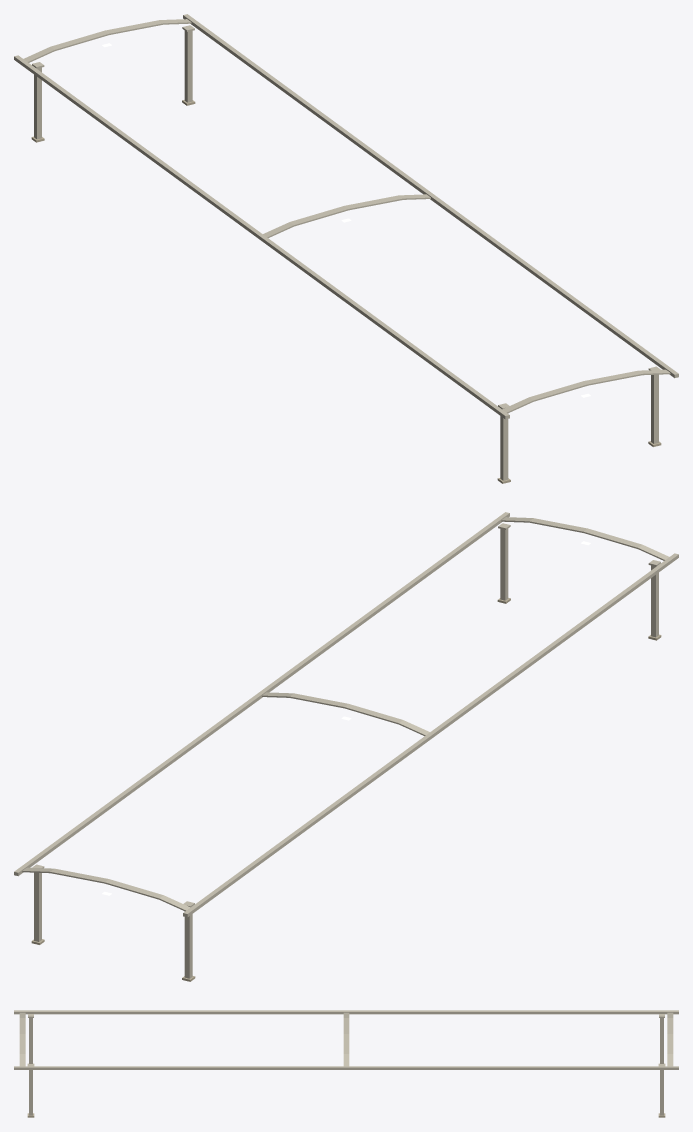
The model's file is COURT_D09_PA_02__shell.glb.
The picture shows the model from 3 angles, top to bottom: view 1: azimuth 30°, elevation 25°; view 2: azimuth 150°, elevation 25°; view 3: azimuth 270°, elevation 25°; orthographic projection. The views are drawn at different scales.
Parts seen in each view (by area): view 1: COURT_D09_PA_02__shell__ivory_enamel; view 2: COURT_D09_PA_02__shell__ivory_enamel; view 3: COURT_D09_PA_02__shell__ivory_enamel.
Boxes of the visible parts, <box> form: COURT_D09_PA_02__shell__ivory_enamel: <box>14,14,678,480</box>; COURT_D09_PA_02__shell__ivory_enamel: <box>14,512,678,978</box>; COURT_D09_PA_02__shell__ivory_enamel: <box>14,1010,678,1115</box>.
Bounding box in the file's own units: 15.9 × 7.42 × 78.
Materials: 3 (2 with a texture image).
